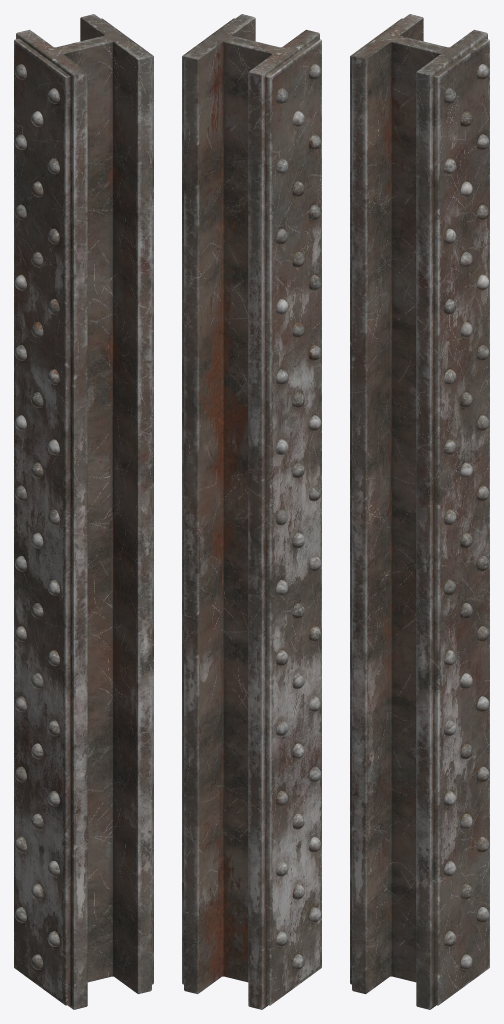
File: SM_Beam_Thin_100u.glb
3 views of the same model, side by side, from view 1: azimuth 30°, elevation 25°; view 2: azimuth 150°, elevation 25°; view 3: azimuth 330°, elevation 25° (orthographic).
Visible parts, largest first — view 1: SM_Beam_Thin_100u; view 2: SM_Beam_Thin_100u; view 3: SM_Beam_Thin_100u.
Boxes of the visible parts, <box> form: SM_Beam_Thin_100u: <box>14,14,153,1009</box>; SM_Beam_Thin_100u: <box>182,14,321,1009</box>; SM_Beam_Thin_100u: <box>350,14,489,1009</box>.
Bounding box in the file's own units: 0.308 × 2.66 × 0.3.
Materials: 1 (1 with a texture image).
